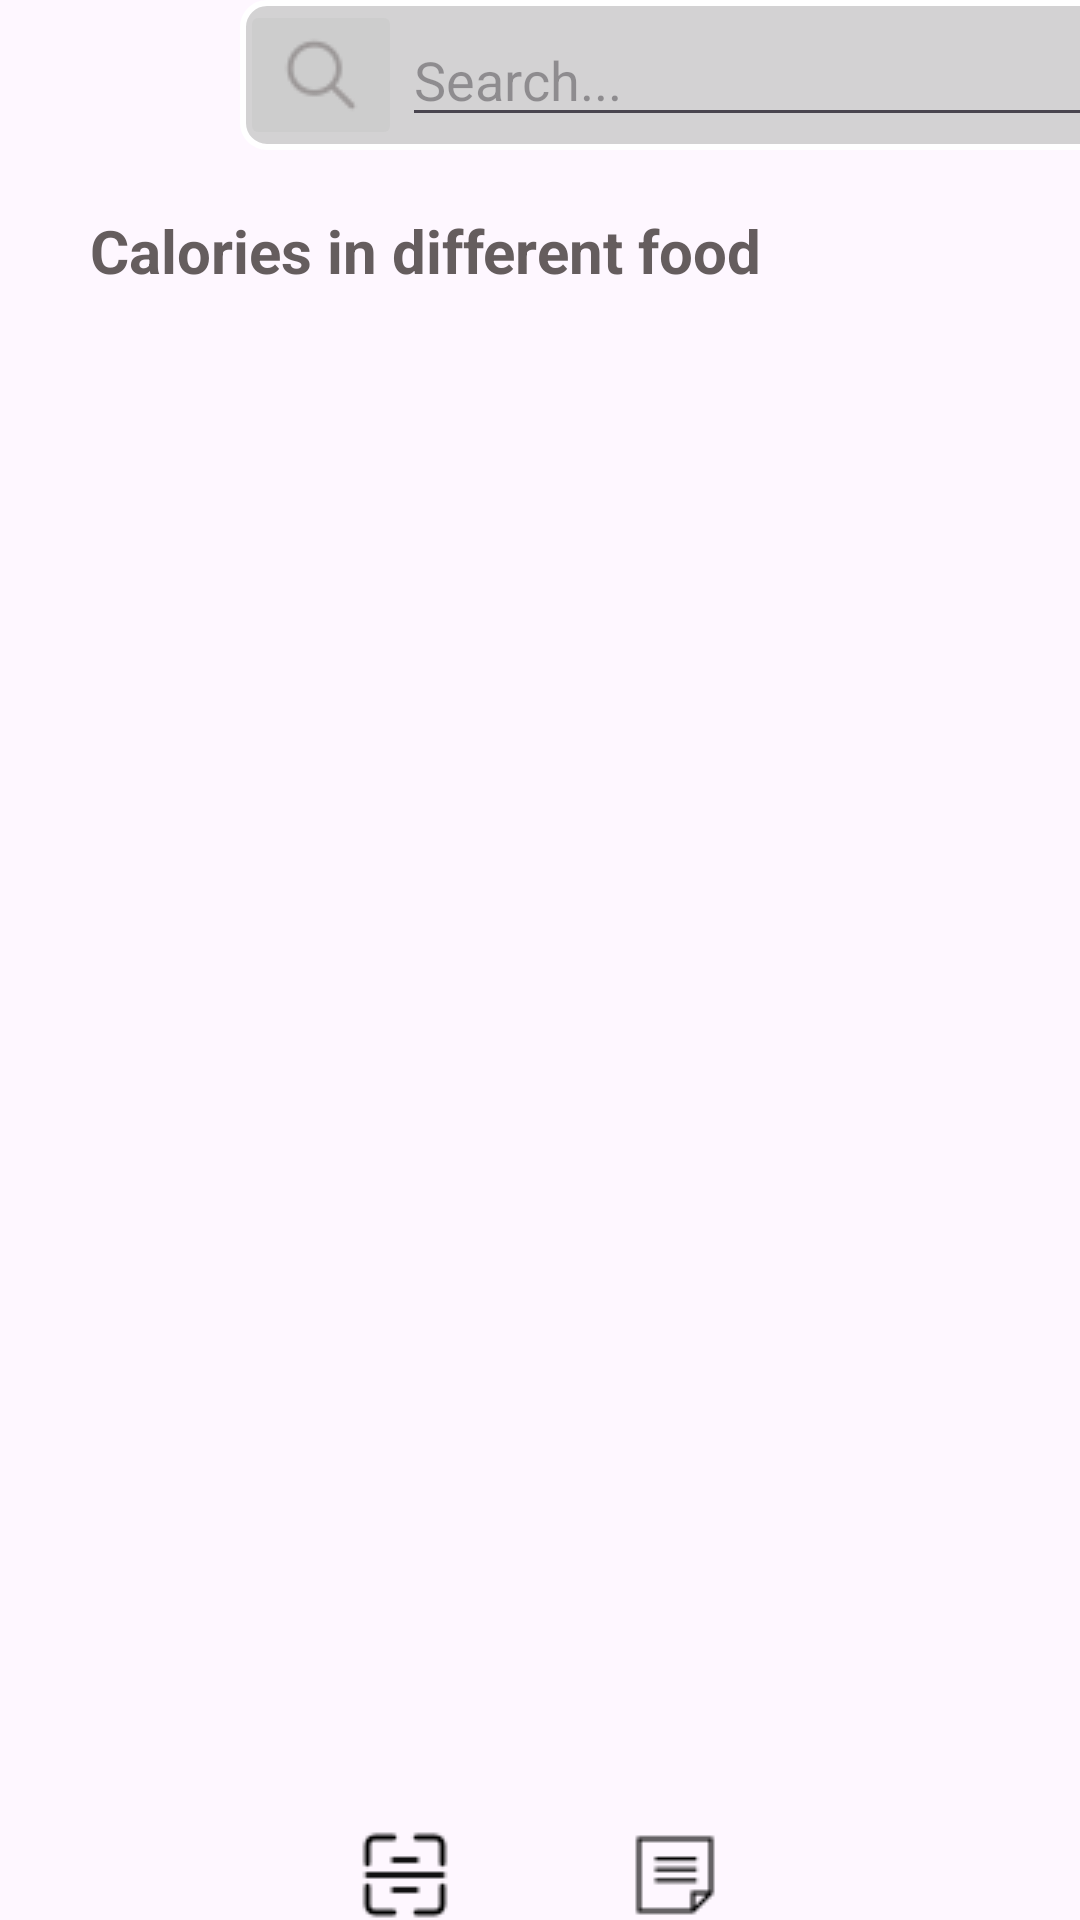

Where to tap for icons on this 1080*1920 app screen, as point (x, y):
diary: point (675, 1875)
scan: point (405, 1875)
